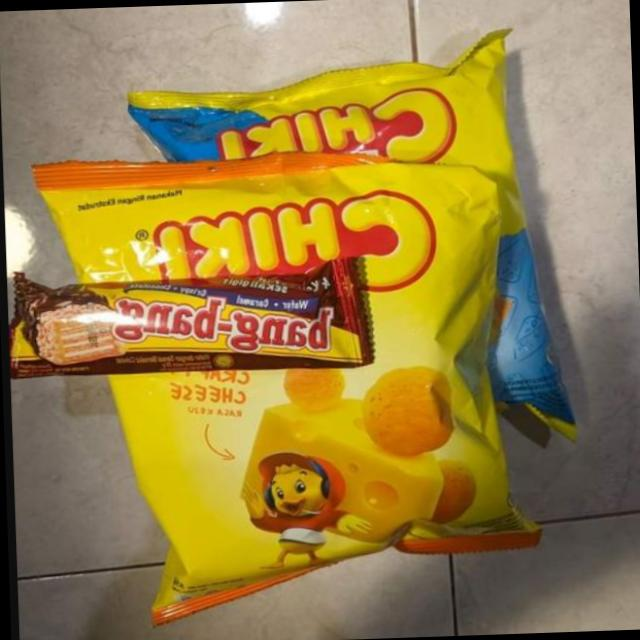KemasanPlastik: (33, 144, 510, 625), (124, 18, 541, 468), (5, 248, 374, 386)
